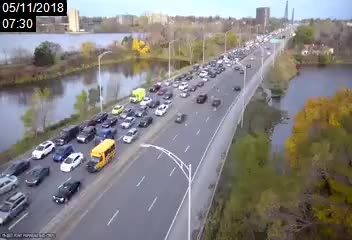congestion: (1, 120, 141, 213), (83, 92, 172, 135), (126, 67, 205, 108), (180, 53, 232, 79)
personal_car: (1, 191, 30, 224), (52, 179, 81, 206), (24, 165, 51, 187), (3, 157, 29, 177), (58, 151, 84, 171), (56, 125, 80, 144), (30, 139, 53, 158), (52, 144, 73, 162), (98, 127, 118, 143), (121, 127, 139, 144), (79, 127, 95, 144), (130, 87, 144, 103), (138, 116, 155, 128), (104, 116, 118, 129), (121, 116, 135, 128), (93, 111, 107, 123), (155, 104, 168, 116), (196, 92, 207, 105), (111, 103, 123, 114), (174, 112, 185, 123), (210, 96, 222, 106), (149, 82, 160, 92), (148, 99, 160, 108), (180, 88, 188, 97)
school_bus: (85, 139, 116, 172)
